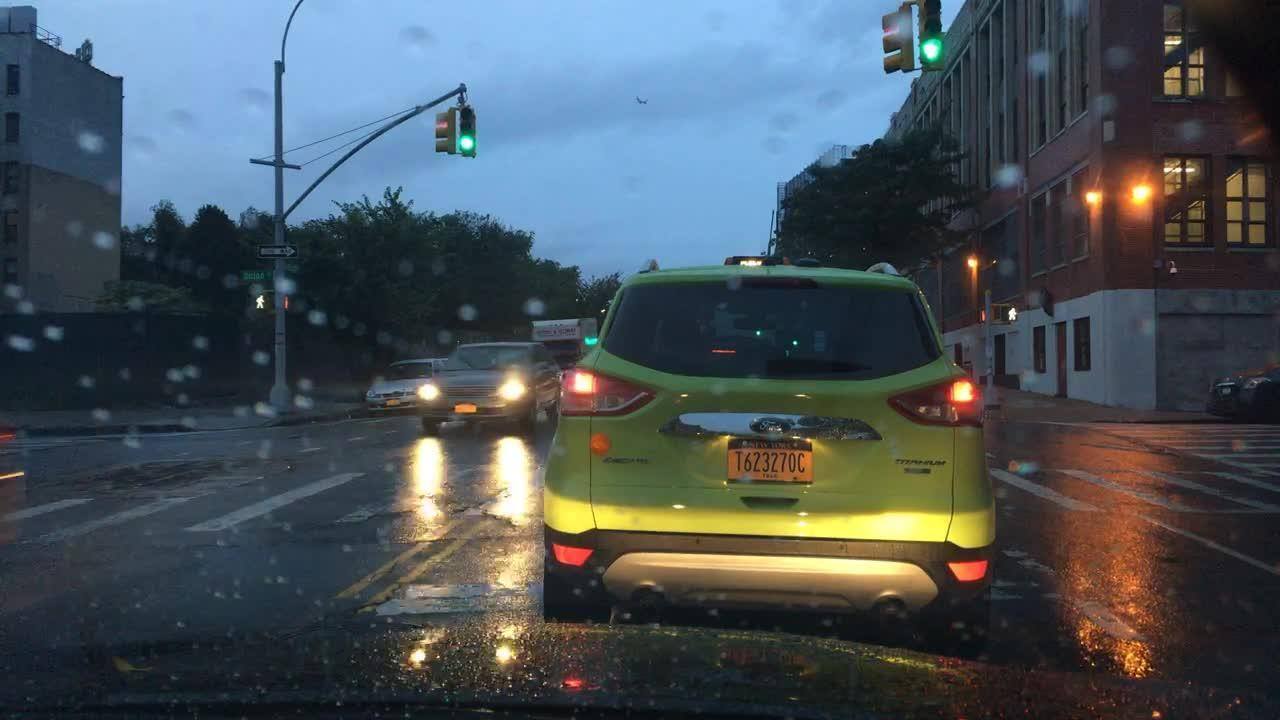ford: (743, 409, 796, 441)
